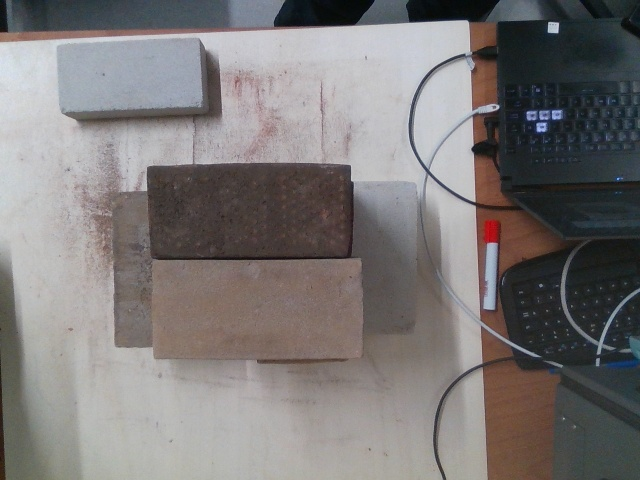brick: (151, 261, 359, 360), (147, 166, 349, 259), (57, 37, 201, 111)
